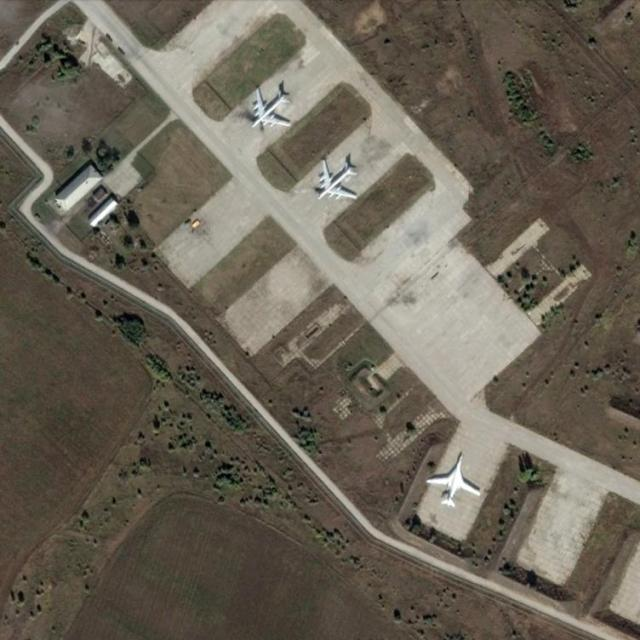fighter jet: (238, 78, 292, 136), (430, 453, 480, 511), (311, 156, 358, 204)
